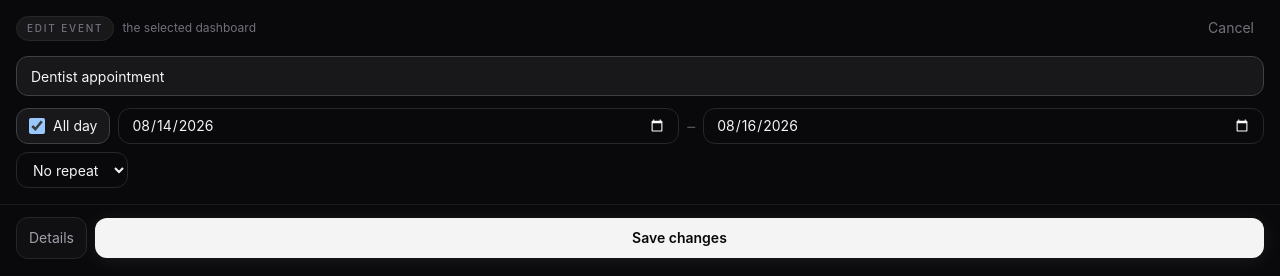
all-day spans › moving the start date carries the covered span, like duration for timed events
The width and height of the screenshot is (1280, 276).
Type "2026-08-20" into the date field named "Start date" at point(399, 126), box [118, 108, 679, 144]
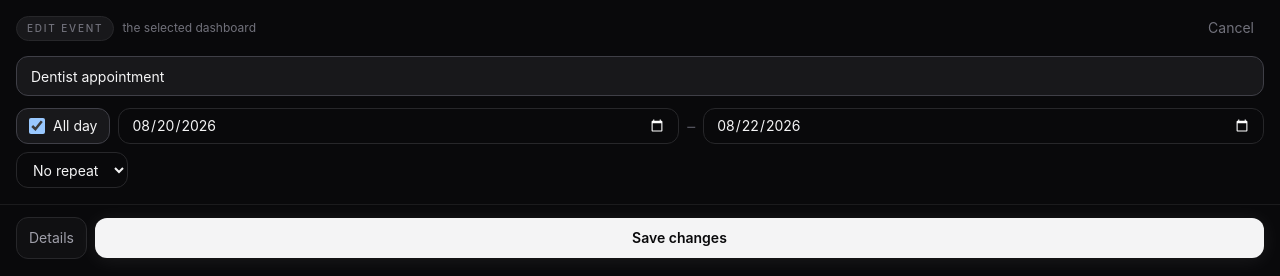
Check: the date field named "End date" holds "2026-08-22", box [703, 108, 1264, 144]
